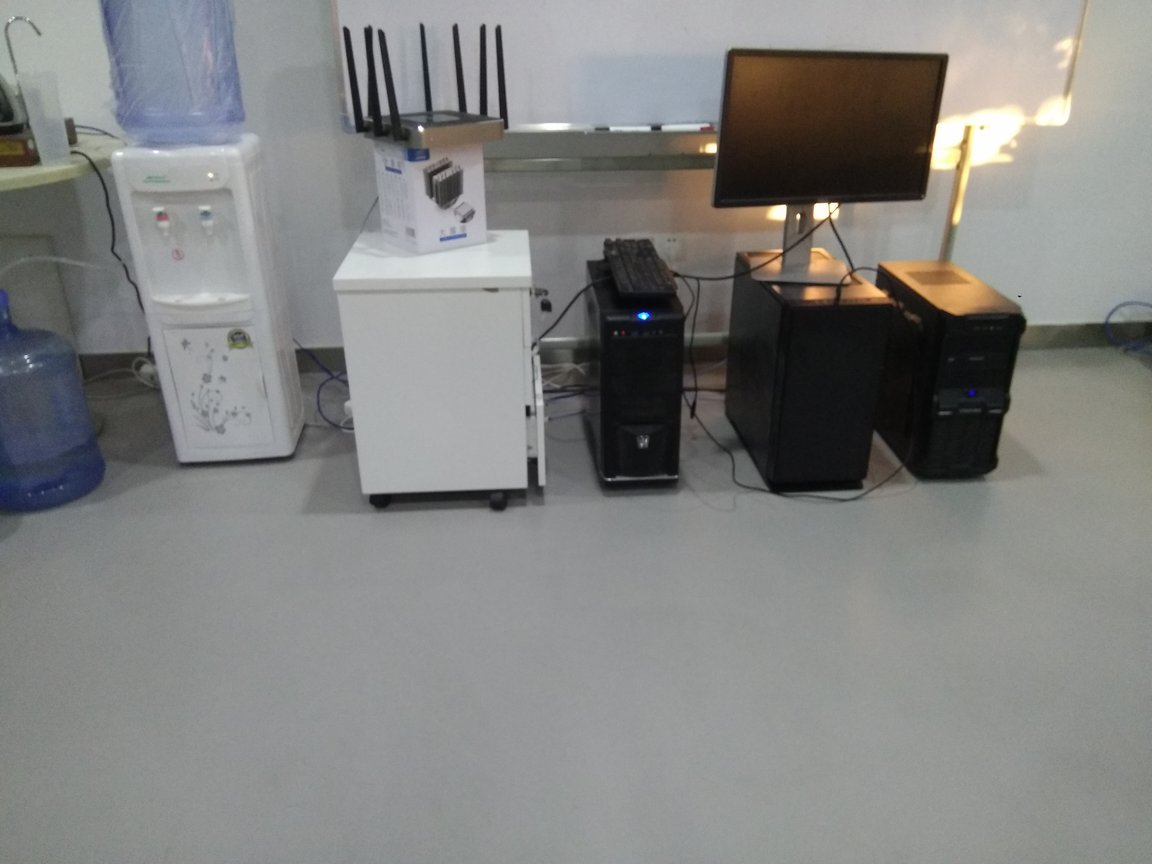computer: (731, 244, 879, 511), (882, 253, 1013, 489), (587, 260, 693, 504)
drawer chest: (328, 225, 548, 518)
monitor: (719, 38, 950, 293)
scuttlebutt: (1, 286, 113, 520), (95, 1, 246, 140)
water dispenser: (113, 136, 310, 465)
